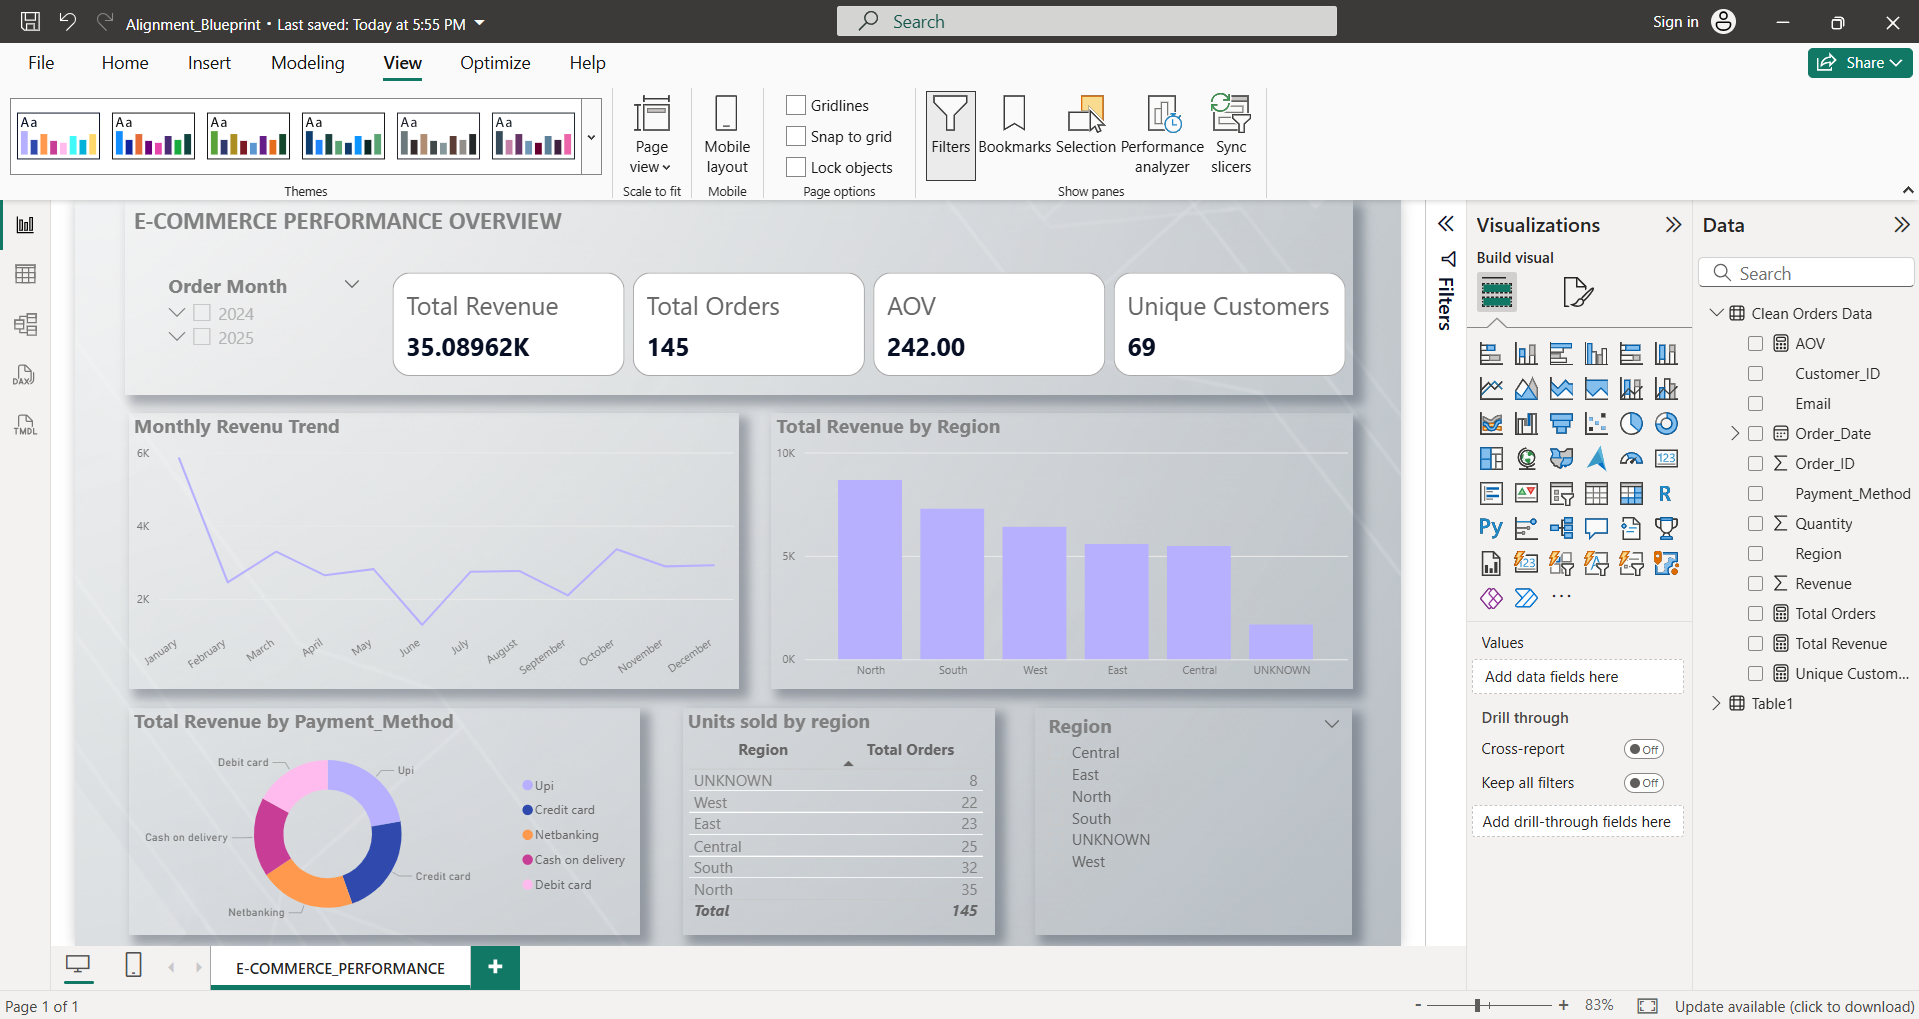

What the dashboard file says about the page in this screenshot:
{"tool":"powerbi","page":{"name":"E-COMMERCE_PERFORMANCE","canvas":[1280,720],"ordinal":0},"visuals":[{"type":"lineChart","title":"Monthly Revenu Trend","fields":{"Y":["Sum(Clean Orders Data.Revenue)"],"Category":["Clean Orders Data.Order_Date.Variation.Date Hierarchy.Month"]},"box":[52.1,204.6,588.7,266.4],"z":0},{"type":"columnChart","fields":{"Category":["Clean Orders Data.Region"],"Y":["Clean Orders Data.Total Revenue"]},"box":[671.7,204.6,561.7,266.4],"z":1000},{"type":"donutChart","fields":{"Category":["Clean Orders Data.Payment_Method"],"Y":["Clean Orders Data.Total Revenue"]},"box":[51.9,489.8,493.4,219.6],"z":2000},{"type":"tableEx","title":"Units sold by region","fields":{"Values":["Clean Orders Data.Region","Clean Orders Data.Total Orders"]},"box":[586.3,489.8,301.6,219.6],"z":3000},{"type":"slicer","title":"r","fields":{"Values":["Clean Orders Data.Region"]},"box":[926.5,489.8,306.4,219.6],"z":4000},{"type":"shape","box":[48.3,0,1185.9,188.2],"z":5000},{"type":"cardVisual","fields":{"Data":["Clean Orders Data.Total Revenue","Clean Orders Data.Total Orders","Clean Orders Data.AOV","Clean Orders Data.Unique Customers"]},"box":[301.1,65.2,931.8,110.4],"z":6000},{"type":"slicer","fields":{"Values":["Clean Orders Data.Order_Date.Variation.Date Hierarchy.Year","Clean Orders Data.Order_Date.Variation.Date Hierarchy.Month"]},"box":[77.2,65.1,209.9,111],"z":7000},{"type":"textbox","box":[51.9,0,470.1,45.2],"z":8000}]}

Visuals, with their boxes on the page's 1280x720 design canvas (x1, y1, x2, y2). These are canvas units, not pixel positions in the 1919x1019 screenshot, which may show the page scaled, cropped or inside an application window:
"Monthly Revenu Trend" lineChart: x1=52, y1=205, x2=641, y2=471
columnChart - Clean Orders Data.Region x Clean Orders Data.Total Revenue: x1=672, y1=205, x2=1233, y2=471
donutChart - Clean Orders Data.Payment_Method x Clean Orders Data.Total Revenue: x1=52, y1=490, x2=545, y2=709
"Units sold by region" tableEx: x1=586, y1=490, x2=888, y2=709
"r" slicer: x1=926, y1=490, x2=1233, y2=709
shape: x1=48, y1=0, x2=1234, y2=188
cardVisual - Clean Orders Data.Total Revenue x Clean Orders Data.Total Orders: x1=301, y1=65, x2=1233, y2=176
slicer - Clean Orders Data.Order_Date.Variation.Date Hierarchy.Year x Clean Orders Data.Order_Date.Variation.Date Hierarchy.Month: x1=77, y1=65, x2=287, y2=176
textbox: x1=52, y1=0, x2=522, y2=45
